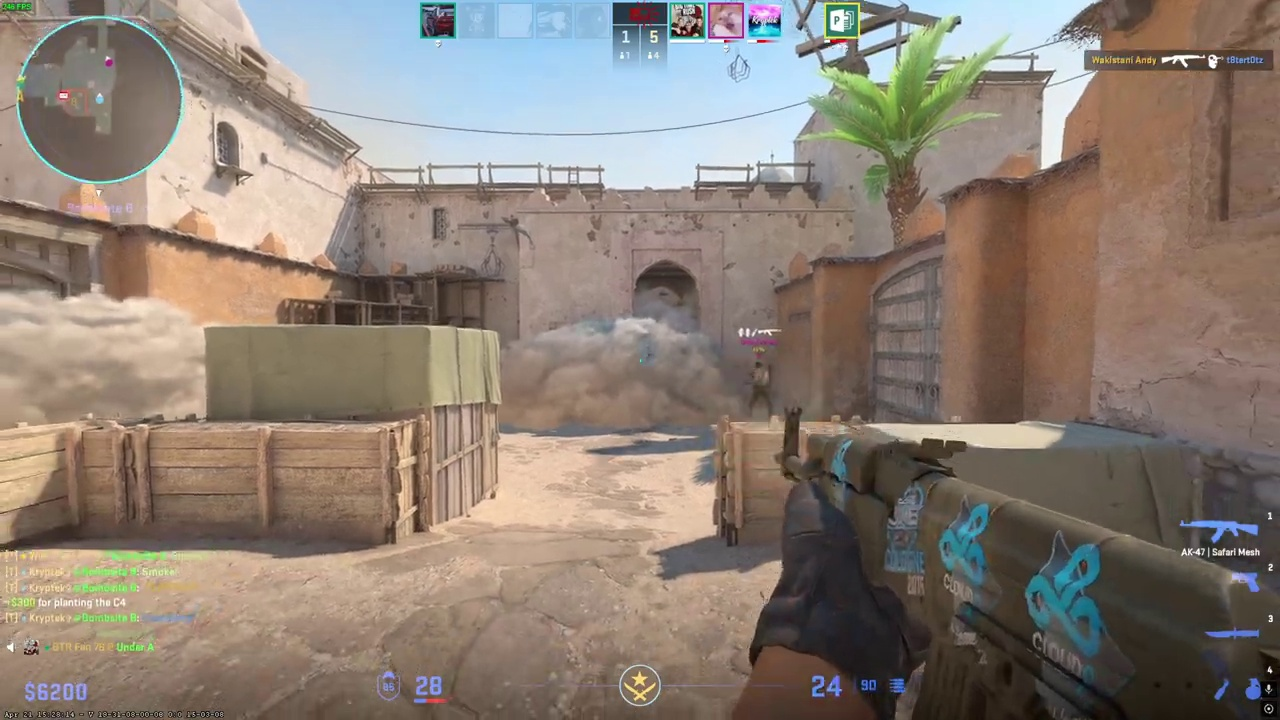Terrorist: (746, 361, 774, 417)
